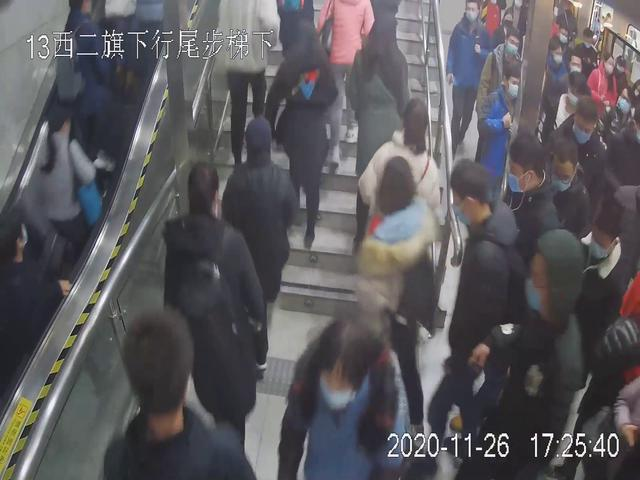person: (431, 155, 528, 479), (104, 308, 245, 480), (169, 160, 266, 410), (514, 224, 601, 480), (288, 311, 418, 478), (221, 117, 300, 339), (264, 13, 337, 246), (443, 3, 488, 158), (478, 70, 529, 176)
